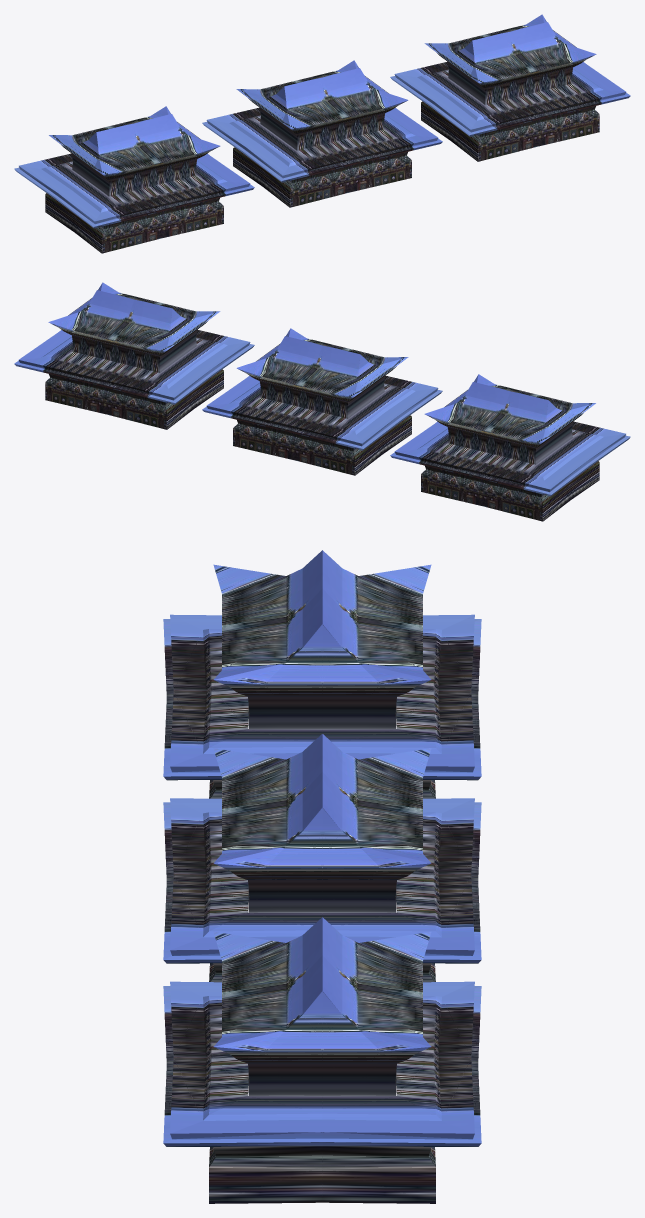
File: templos.fbx
3 renders of one model, top to bottom at view 1: azimuth 30°, elevation 25°; view 2: azimuth 150°, elevation 25°; view 3: azimuth 270°, elevation 25°, orthographic. The views are drawn at different scales.
Parts seen in each view (by area): view 1: TemploPrincipal.002; view 2: TemploPrincipal.002; view 3: TemploPrincipal.002.
Part boxes in pixels (bbox=[...]): TemploPrincipal.002: bbox=[14, 14, 630, 253]; TemploPrincipal.002: bbox=[14, 282, 630, 521]; TemploPrincipal.002: bbox=[163, 550, 481, 1203].
Bounding box in the file's own units: 1572 × 266 × 403.
